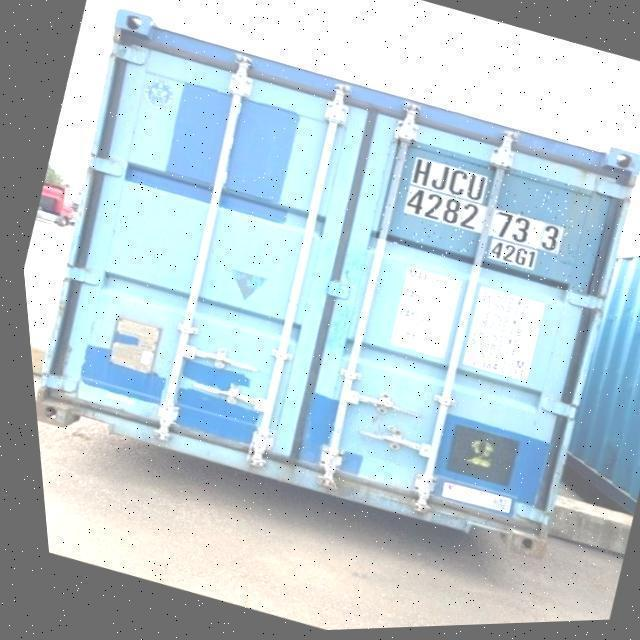ISO: (482, 238, 536, 274)
container_number: (412, 153, 562, 249)
